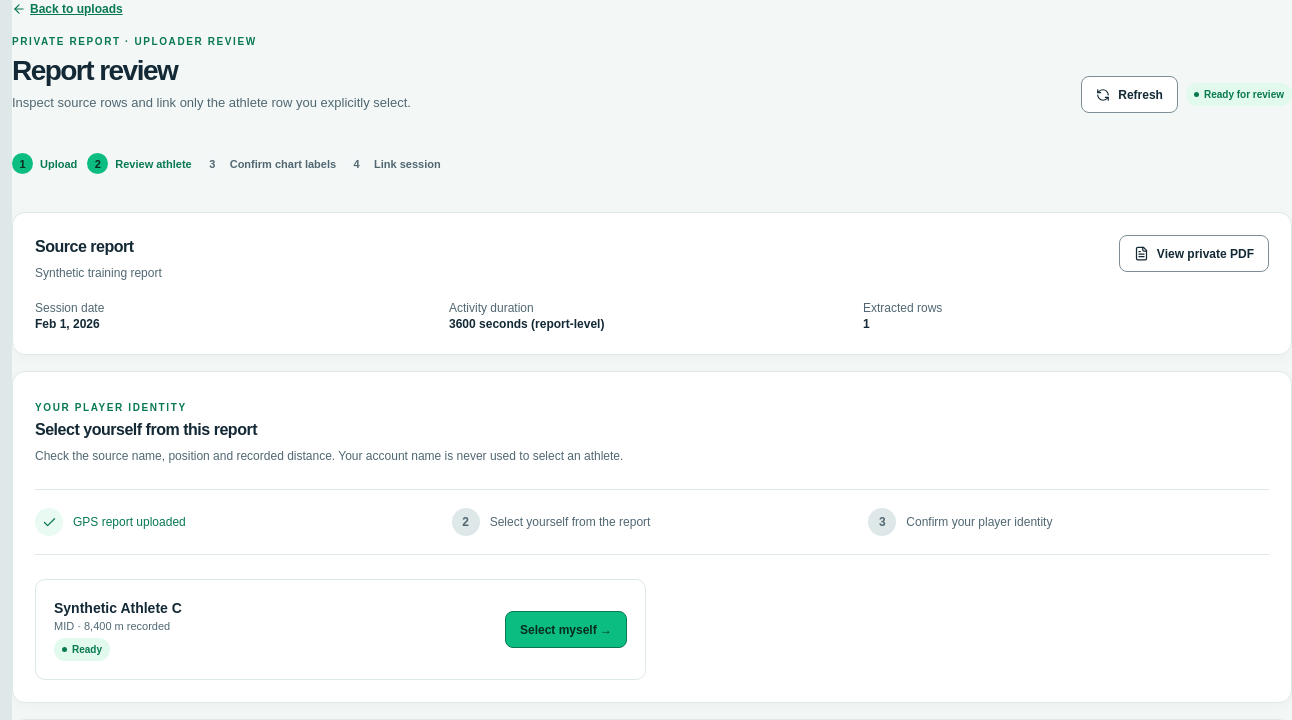
Test: uploader review flow › lets the player choose another athlete without creating a mapping
Step 1. Click the button with aria-label "select myself — synthetic athlete c" → (566, 630), box [505,611,627,648]
(page scrolled)
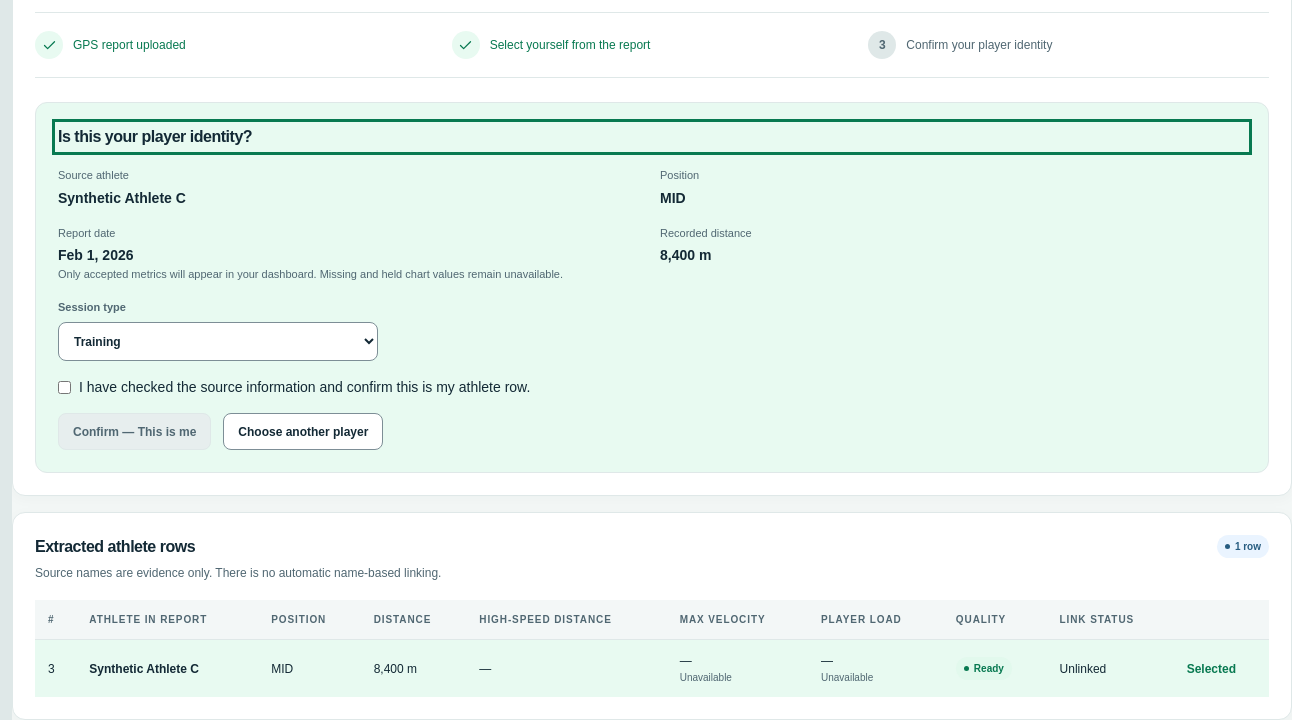
Step 2. Click the button "Choose another player" → (303, 432), box [223,413,383,450]
(page scrolled)
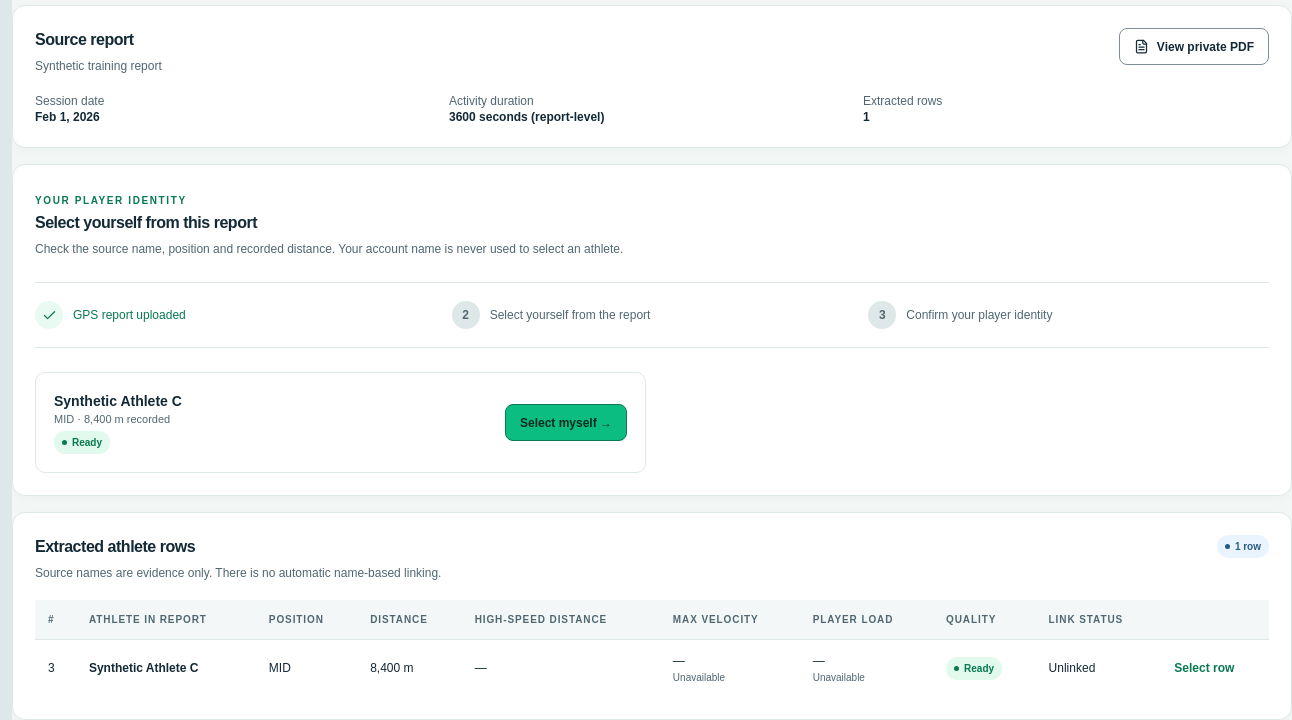
Expected: the button with aria-label "select myself — synthetic athlete c" is shown, [505,404,627,441]
Expected: the heading "Is this your player identity?" is gone
